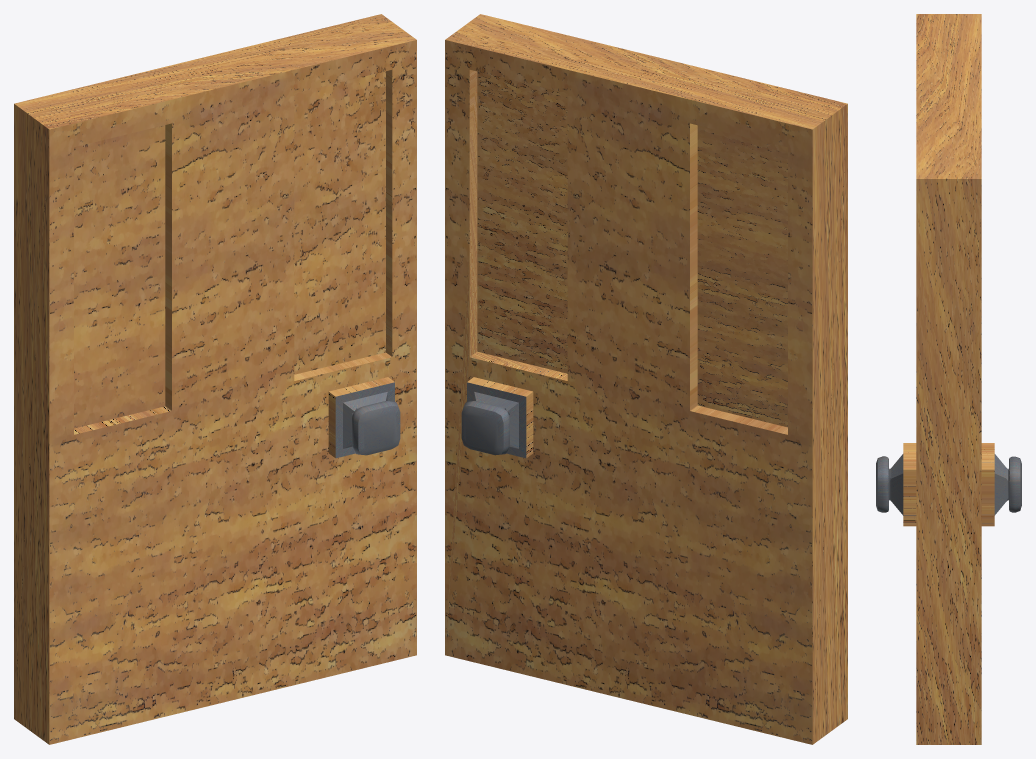
The model's file is Door.fbx.
3 views of the same model, side by side, from view 1: azimuth 30°, elevation 25°; view 2: azimuth 150°, elevation 25°; view 3: azimuth 270°, elevation 25° (orthographic). The views are drawn at different scales.
Parts seen in each view (by area): view 1: Door, Knobs; view 2: Door, Knobs; view 3: Door, Knobs.
Boxes of the visible parts, left/top/right/bottom form: Door: left=14, top=14, right=416, bottom=744; Knobs: left=335, top=382, right=400, bottom=458; Door: left=445, top=14, right=847, bottom=744; Knobs: left=461, top=382, right=526, bottom=458; Door: left=903, top=14, right=994, bottom=744; Knobs: left=876, top=454, right=1021, bottom=515.
Bounding box in the file's own units: 1.5 × 2.4 × 0.5603.
